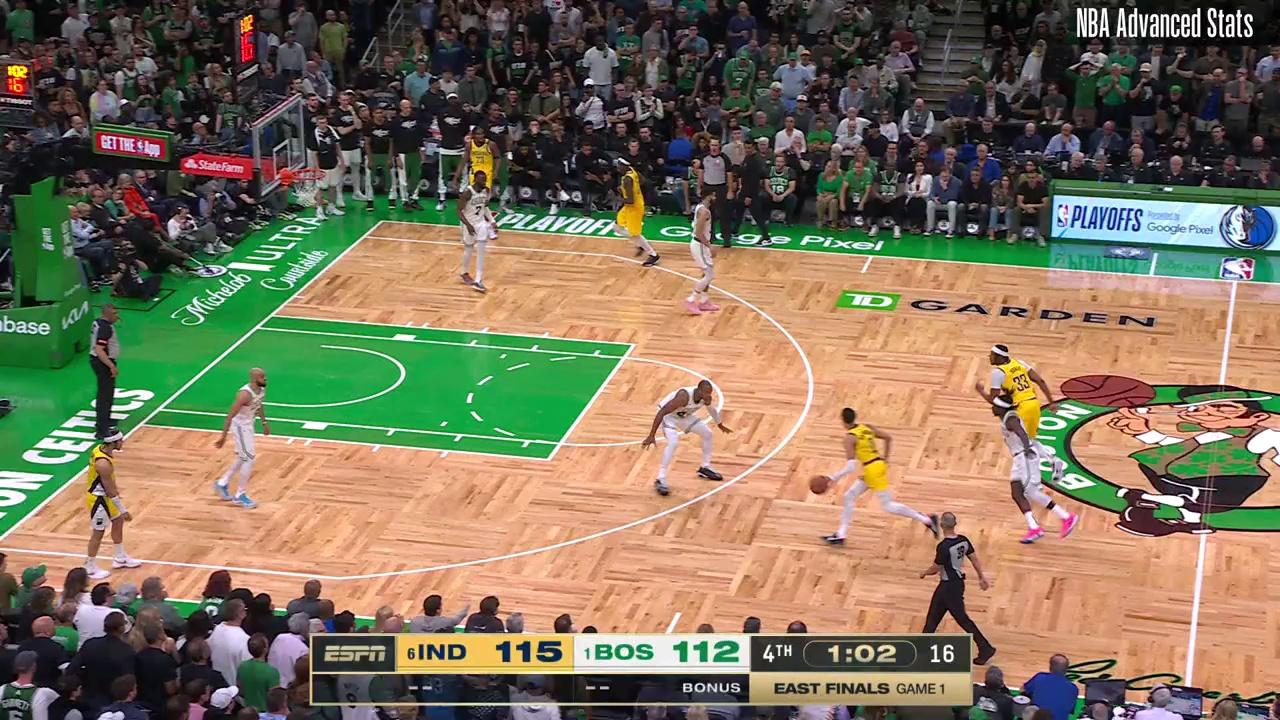3_dx: (359, 232, 370, 242)
b_dx: (376, 217, 387, 226)
free_adx: (628, 339, 639, 351)
free_asx: (542, 453, 555, 465)
free_bdx: (266, 310, 278, 321)
free_bsx: (134, 418, 148, 431)
half_dx: (1225, 272, 1245, 290)
mid_dx: (857, 268, 868, 278)
mid_sx: (674, 607, 684, 616)
referee: (920, 515, 997, 662), (85, 301, 125, 438), (696, 138, 736, 252)
team: (981, 392, 1080, 545), (645, 374, 735, 499), (209, 365, 273, 511), (454, 170, 498, 295), (688, 192, 720, 317)
team1: (819, 410, 939, 542), (972, 343, 1065, 478), (82, 425, 143, 579), (604, 149, 661, 266), (454, 127, 502, 233)
timer: (819, 639, 902, 672)
